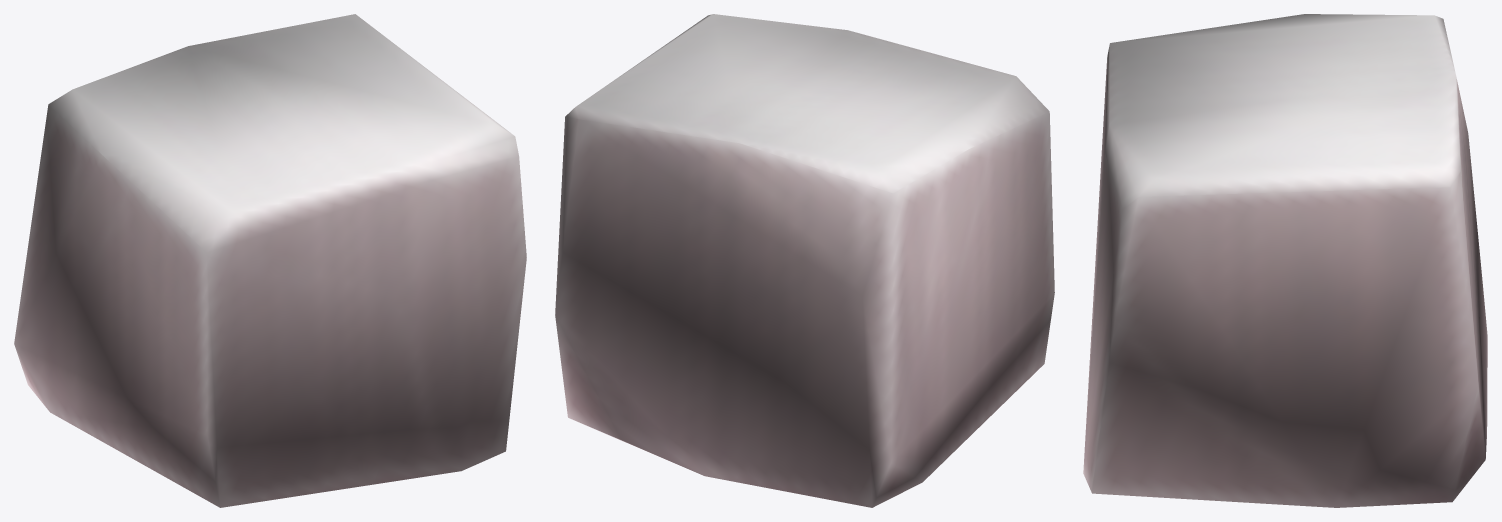
Rendered from SM_Gem_Halite_Piece_002.fbx.
3 views of the same model, side by side, from view 1: azimuth 30°, elevation 25°; view 2: azimuth 150°, elevation 25°; view 3: azimuth 270°, elevation 25° (orthographic). The views are drawn at different scales.
Visible parts, largest first — view 1: SM_Gem_Halite_Piece_002; view 2: SM_Gem_Halite_Piece_002; view 3: SM_Gem_Halite_Piece_002.
Boxes of the visible parts, box(x1,y1,x2,y2) form: SM_Gem_Halite_Piece_002: box(14, 14, 526, 507); SM_Gem_Halite_Piece_002: box(555, 14, 1054, 507); SM_Gem_Halite_Piece_002: box(1083, 14, 1487, 507).
Size of the model in its own units: 10.65 by 9.63 by 10.17.
